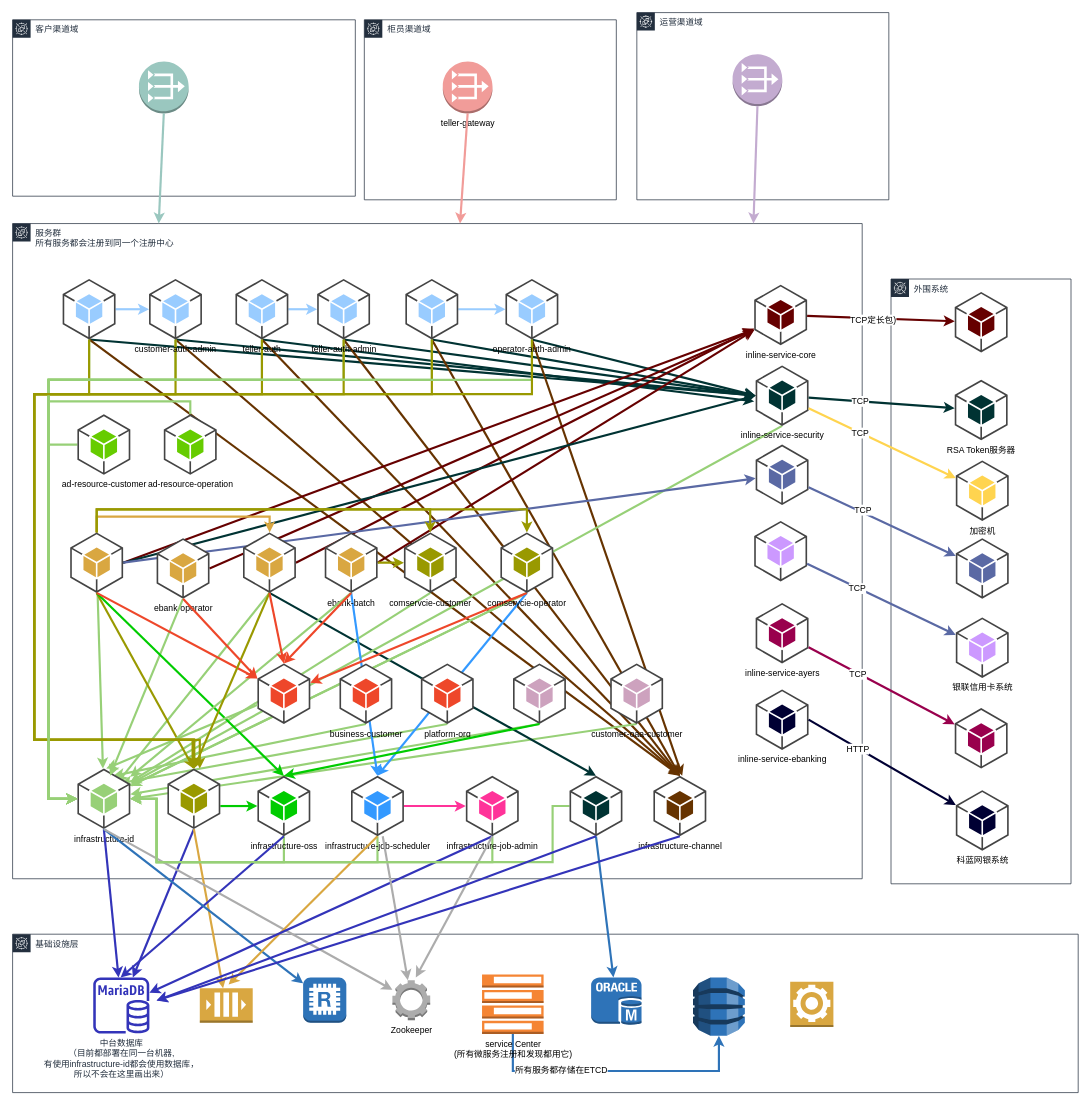
Some shapes in this 1091 by 1105 pixel diagram are drawn without their labels. The shapes that lost their labels are listed below. From the top down, each one's box as (x1, y1, x2, y2) in pixels, then its label:
(138, 61, 189, 113): customer-gateway
(732, 54, 782, 106): operator-gateway
(62, 278, 116, 339): customer-auth
(405, 278, 458, 339): operator-auth
(954, 291, 1008, 352): 银行核心系统
(755, 444, 809, 505): inline-service-debitcard
(69, 532, 123, 593): ebank-customer
(242, 532, 296, 593): ebank-teller
(753, 520, 807, 581): inline-service-creditcard
(955, 537, 1009, 599): 银联借记卡系统
(257, 663, 310, 724): platform-metadata
(512, 663, 566, 724): customer-oaa-teller
(954, 707, 1008, 769): 香港银证系统（外部系统）
(167, 768, 220, 829): infrastructure-message
(199, 987, 253, 1023): RocketMQ
(302, 977, 346, 1023): Redis
(590, 977, 642, 1025): 核心数据库
(692, 977, 745, 1036): ETCD
(789, 981, 833, 1027): Apollo （所有的服务都使用它）
